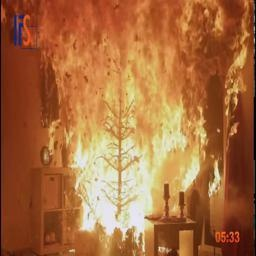fire: (5, 2, 242, 229)
